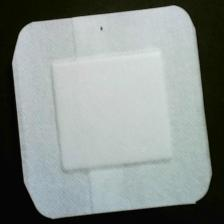Dressing: (12, 6, 215, 221)
F_Body: (92, 20, 114, 43)
